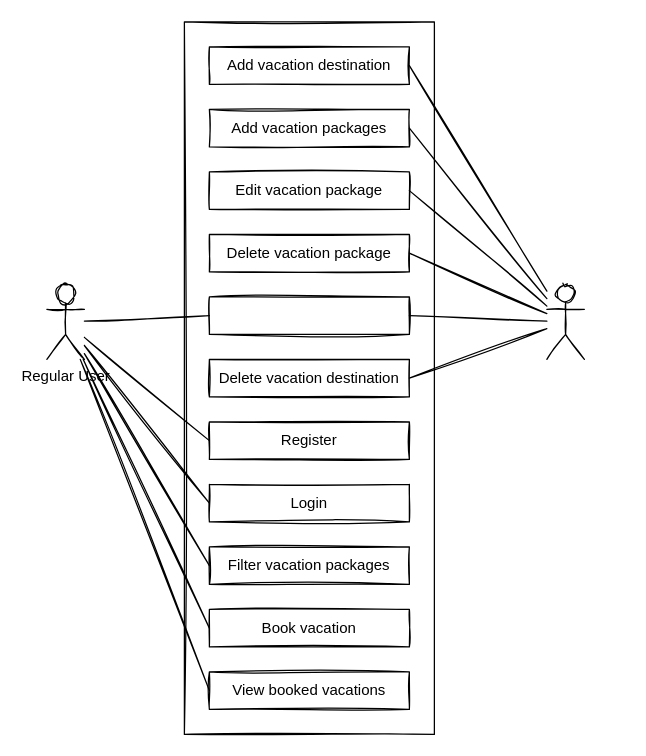
The diagram is 646 pixels wide and 756 high, and some of its shapes have lost their labels. Each missing label, with the centre of its shape:
Travelling Agency: point 565,321
View vacation packages: point 308,315
